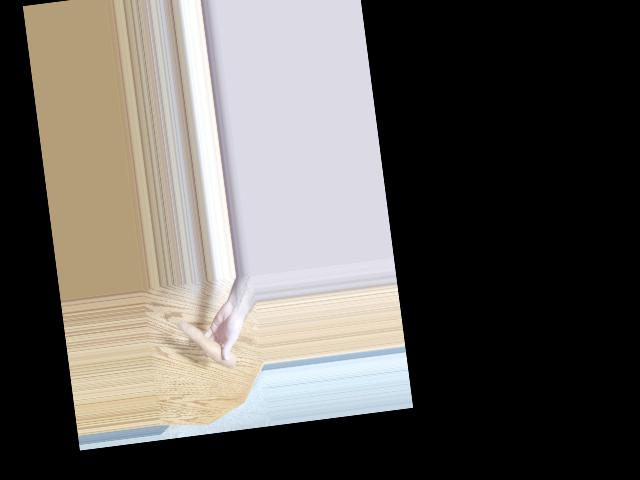sweet_potato: (177, 315, 237, 372)
